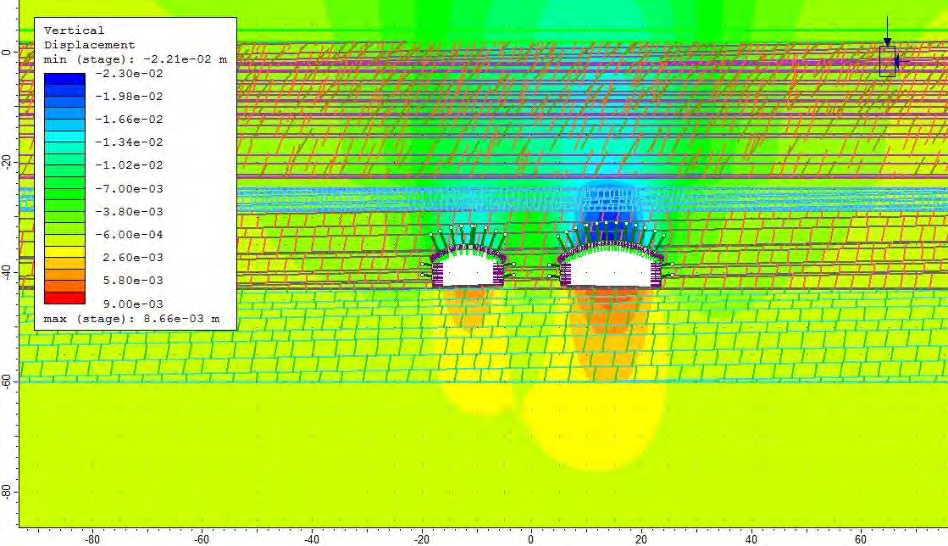crown: (462, 231, 481, 244)
label: (35, 16, 236, 328)
tunnel-opening: (560, 242, 662, 287), (433, 245, 505, 285), (597, 228, 622, 241)
